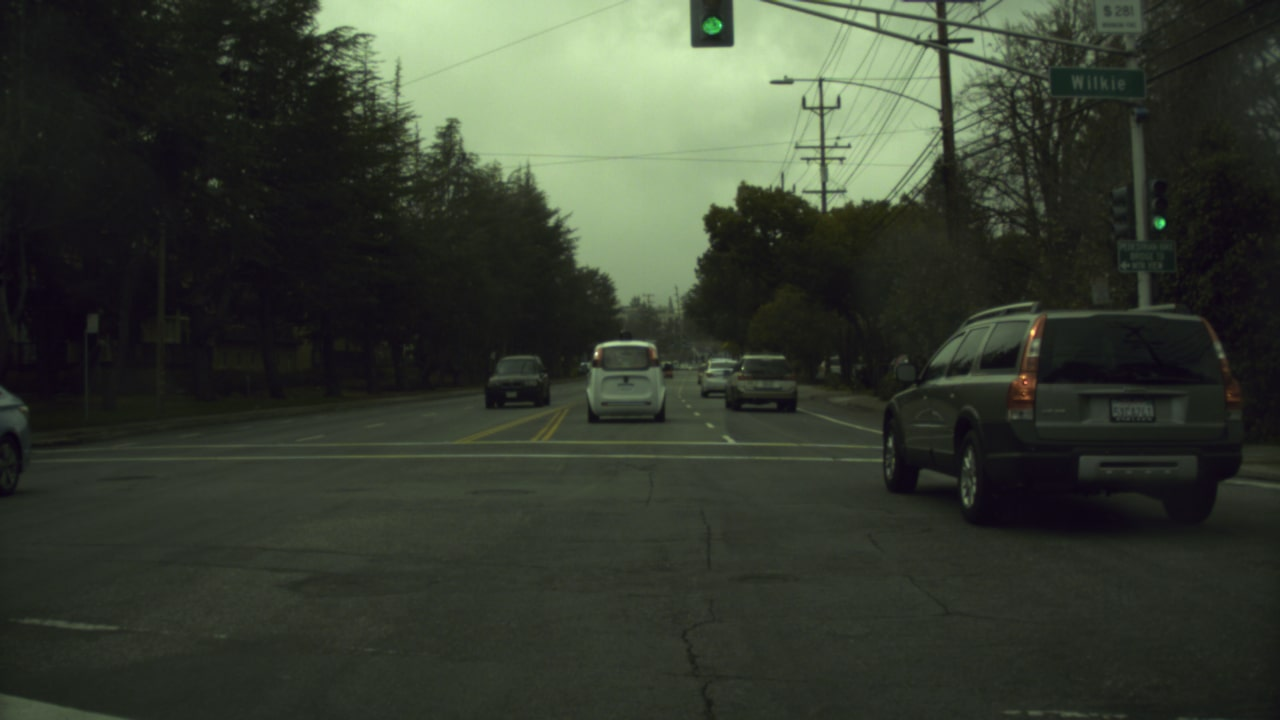signal: (689, 3, 735, 49), (1147, 180, 1172, 241)
